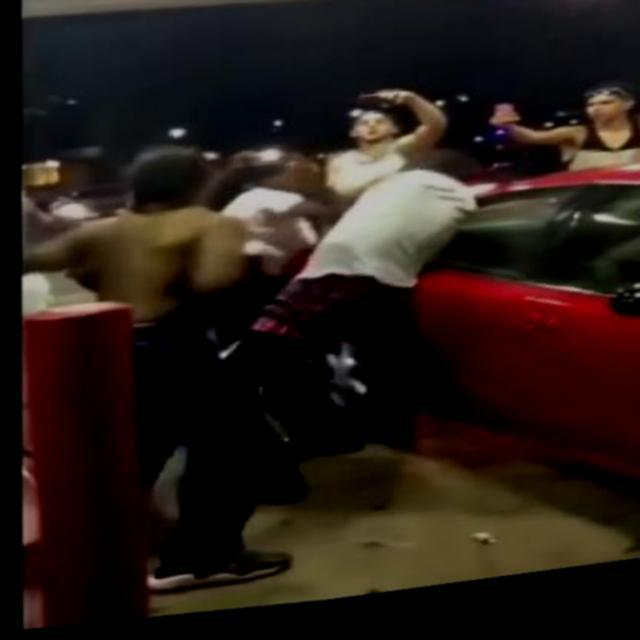fight: (52, 124, 500, 610)
